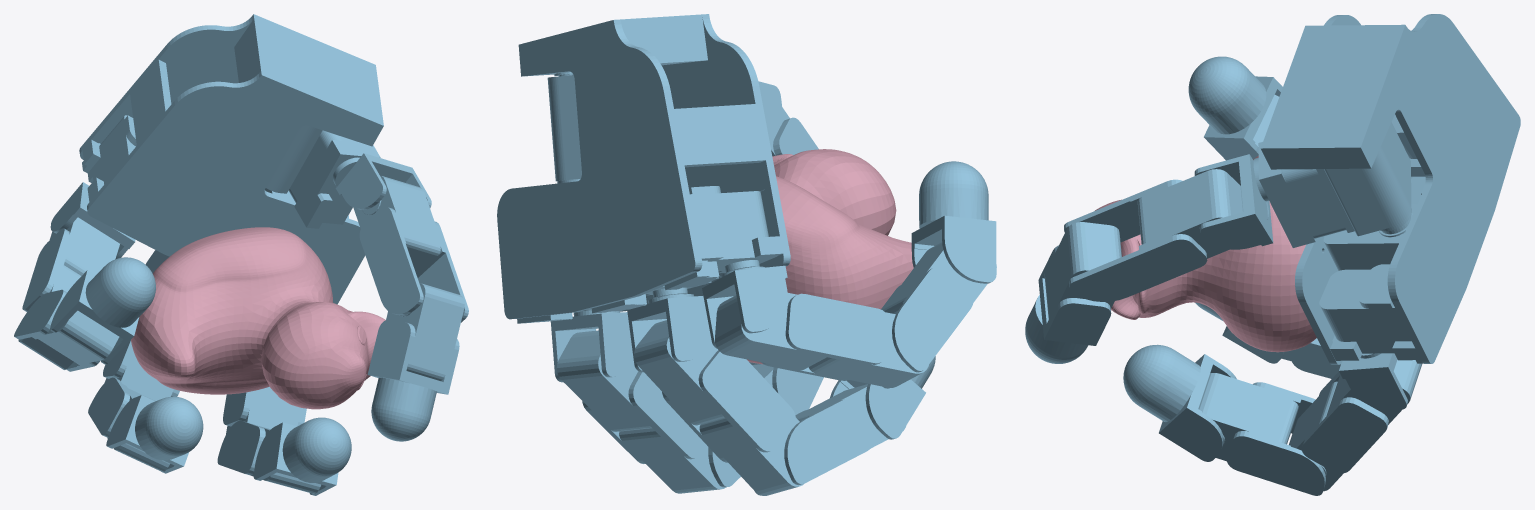
The picture shows the model from 3 angles, left to right: view 1: azimuth 30°, elevation 25°; view 2: azimuth 150°, elevation 25°; view 3: azimuth 270°, elevation 25°; orthographic projection. The views are drawn at different scales.
Parts seen in each view (by area): view 1: world, rubber_duck.stl; view 2: world, rubber_duck.stl; view 3: world, rubber_duck.stl.
Part boxes in pixels (x1,y1,x2,y2): world: [14, 14, 468, 495]; rubber_duck.stl: [131, 227, 385, 409]; world: [497, 14, 996, 495]; rubber_duck.stl: [747, 149, 913, 364]; world: [1025, 14, 1520, 495]; rubber_duck.stl: [1095, 155, 1316, 352].
Bounding box in the file's own units: 0.1706 × 0.1907 × 0.1786.
